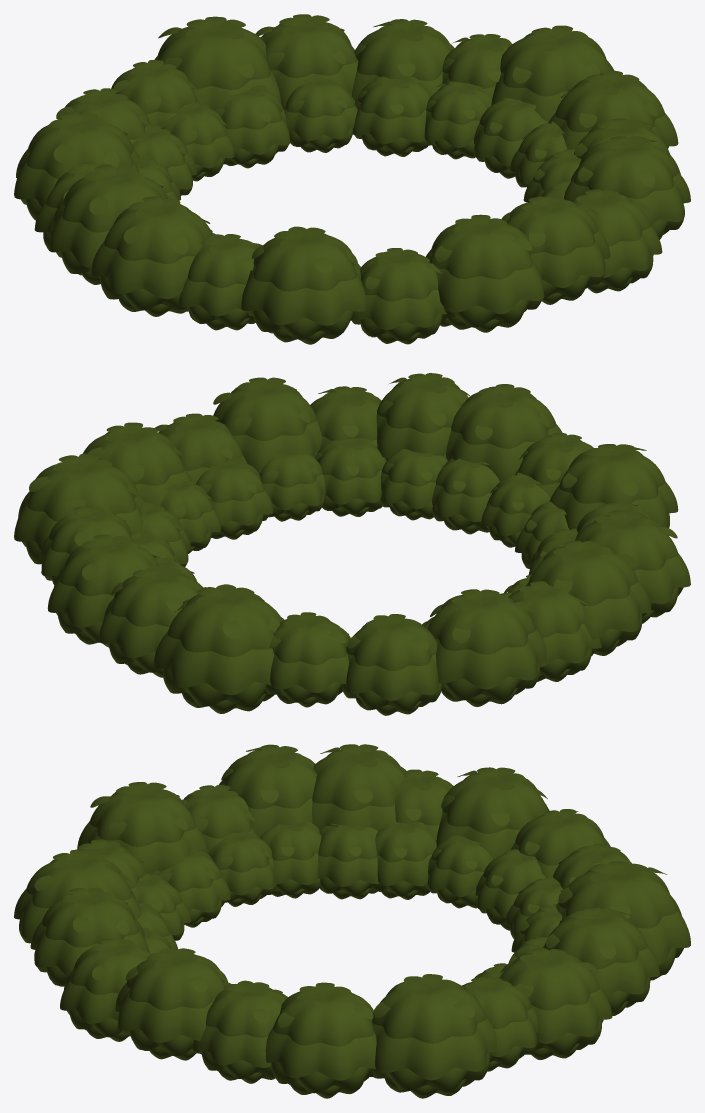
The picture shows the model from 3 angles, top to bottom: view 1: azimuth 30°, elevation 25°; view 2: azimuth 150°, elevation 25°; view 3: azimuth 270°, elevation 25°; orthographic projection. The views are drawn at different scales.
Visible parts, largest first — view 1: Plane.079, Plane.081, Plane.096, Plane.091, Plane.082, Plane.084, Plane.080, Plane.087, Plane.097, Plane.094, Plane.090, Plane.086 (+18 smaller); view 2: Plane.091, Plane.094, Plane.093, Plane.097, Plane.087, Plane.081, Plane.079, Plane.084, Plane.090, Plane.089, Plane.092, Plane.082 (+19 smaller); view 3: Plane.087, Plane.086, Plane.084, Plane.089, Plane.079, Plane.091, Plane.090, Plane.094, Plane.097, Plane.085, Plane.082, Plane.096 (+19 smaller).
Boxes of the visible parts, <box> form: Plane.079: <box>241,226,365,344</box>; Plane.081: <box>426,214,544,332</box>; Plane.096: <box>91,196,212,316</box>; Plane.091: <box>154,16,281,110</box>; Plane.082: <box>501,196,610,304</box>; Plane.084: <box>564,136,690,239</box>; Plane.080: <box>351,248,446,344</box>; Plane.087: <box>491,25,614,122</box>; Plane.097: <box>49,165,168,284</box>; Plane.094: <box>14,112,139,220</box>; Plane.090: <box>255,14,358,107</box>; Plane.086: <box>548,70,678,149</box>; Plane.091: <box>153,584,282,713</box>; Plane.094: <box>427,589,546,706</box>; Plane.093: <box>342,614,442,715</box>; Plane.097: <box>526,540,651,655</box>; Plane.087: <box>14,453,144,564</box>; Plane.081: <box>446,384,562,481</box>; Plane.079: <box>549,444,678,529</box>; Plane.084: <box>213,377,321,473</box>; Plane.090: <box>98,566,203,677</box>; Plane.089: <box>47,534,159,646</box>; Plane.092: <box>266,612,349,707</box>; Plane.082: <box>376,373,470,460</box>; Plane.087: <box>372,974,496,1098</box>; Plane.086: <box>265,982,376,1098</box>; Plane.084: <box>115,948,228,1060</box>; Plane.089: <box>499,948,612,1059</box>; Plane.079: <box>77,782,208,875</box>; Plane.091: <box>556,861,690,980</box>; Plane.090: <box>543,907,659,1015</box>; Plane.094: <box>436,767,549,859</box>; Plane.097: <box>312,744,409,830</box>; Plane.085: <box>192,980,286,1083</box>; Plane.082: <box>30,887,149,986</box>; Plane.096: <box>219,744,316,837</box>.
Bounding box in the file's own units: 176 × 32.23 × 176.
